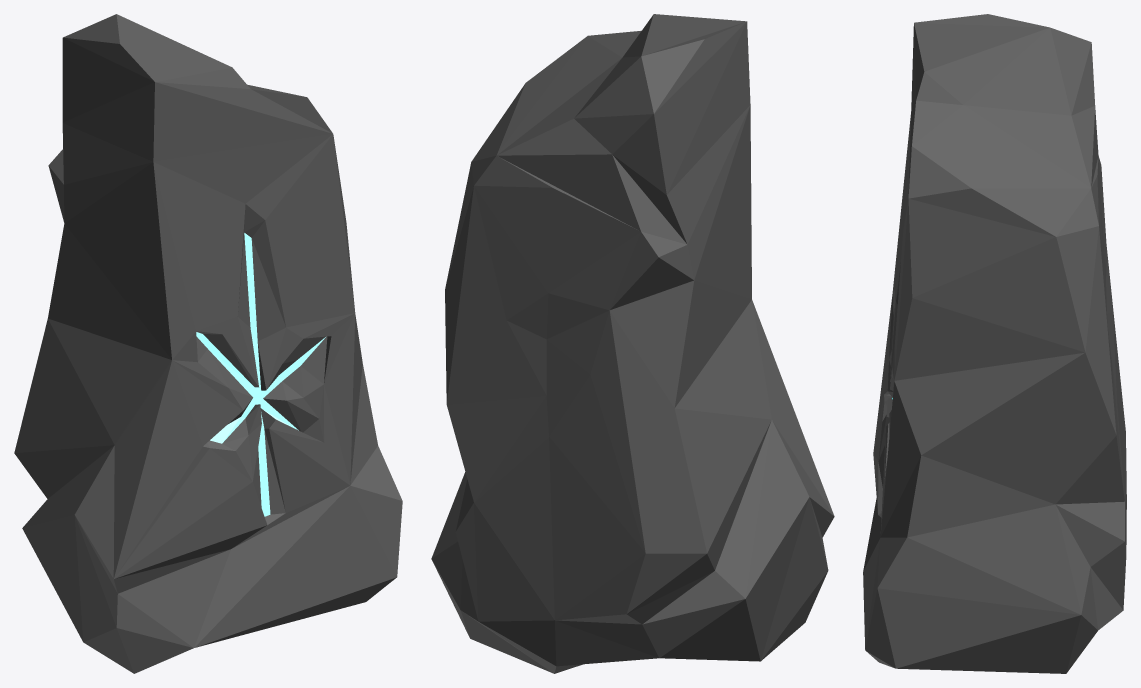
File: SFNP_Runestone_005.fbx
The picture shows the model from 3 angles, left to right: view 1: azimuth 30°, elevation 25°; view 2: azimuth 150°, elevation 25°; view 3: azimuth 270°, elevation 25°; orthographic projection. The views are drawn at different scales.
Parts seen in each view (by area): view 1: SFNP_Runestone_005; view 2: SFNP_Runestone_005; view 3: SFNP_Runestone_005.
Part boxes in pixels (x1,y1,x2,y2): SFNP_Runestone_005: (14, 14, 402, 673); SFNP_Runestone_005: (431, 14, 834, 673); SFNP_Runestone_005: (863, 14, 1126, 673).
Bounding box in the file's own units: 62.29 × 116 × 47.85.
